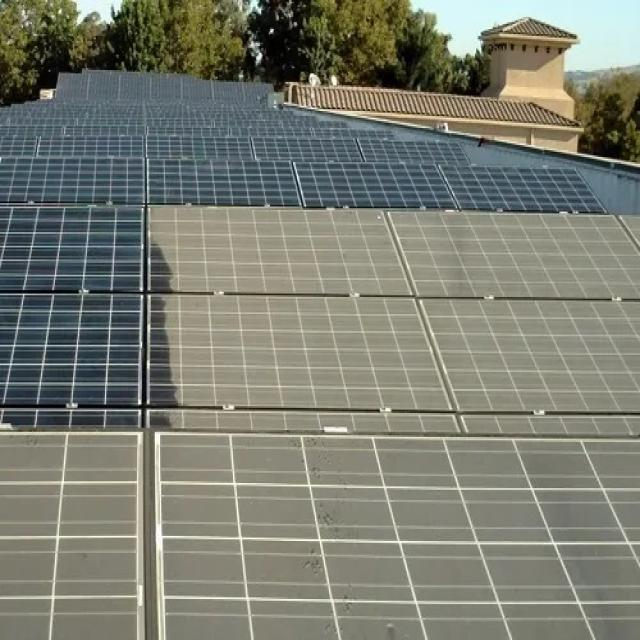dust-solar-panel: (0, 205, 640, 640)
